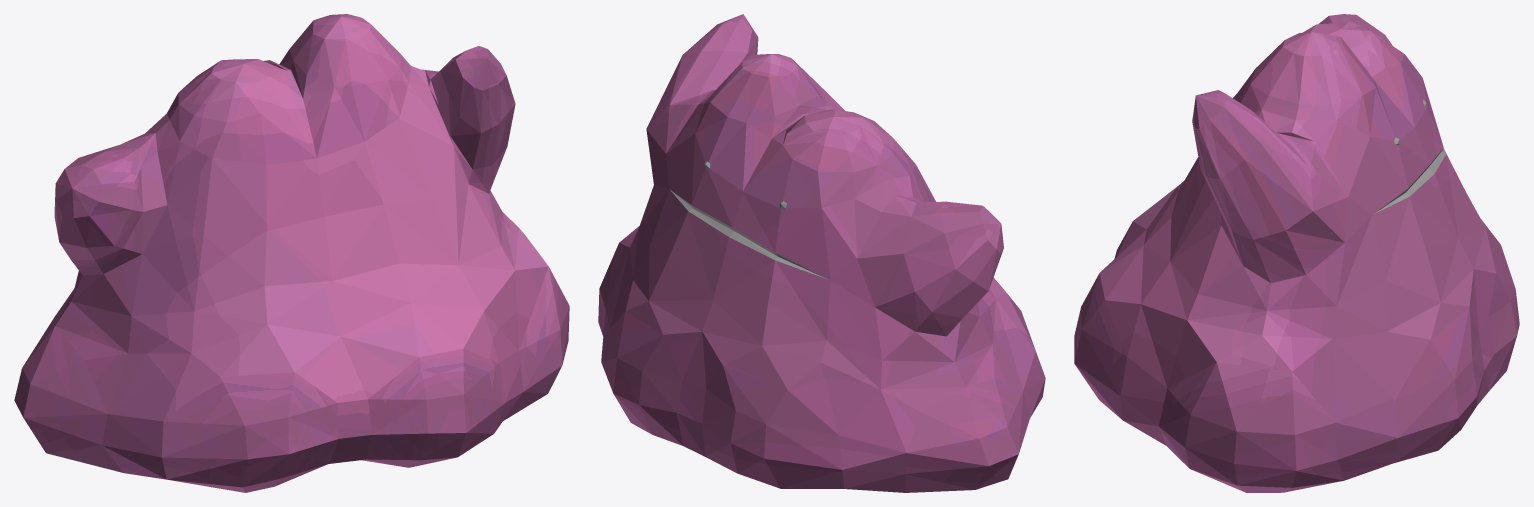
The model's file is ditto.FBX.
3 renders of one model, left to right at view 1: azimuth 30°, elevation 25°; view 2: azimuth 150°, elevation 25°; view 3: azimuth 270°, elevation 25°, orthographic. The views are drawn at different scales.
Visible parts, largest first — view 1: Nemu_214B5, Nemu_214B0, Nemu_21410, Nemu_214B1, Nemu_214B9, Nemu_21414, Nemu_214B8, Nemu_214B6, Nemu_214B2, Nemu_214B3, Nemu_21413, Nemu_214B7 (+1 smaller); view 2: Nemu_214B5, Nemu_214B0, Nemu_21412, Nemu_214B1, Nemu_21414, Nemu_214B8, Nemu_21411, Nemu_214B7, Nemu_214B3, Nemu_214B2, Nemu_214B6, Nemu_214B4 (+2 smaller); view 3: Nemu_214B5, Nemu_214B0, Nemu_21413, Nemu_214B6, Nemu_21411, Nemu_214B4, Nemu_214B1, Nemu_214B2, Nemu_214B9, Nemu_21412, Nemu_214B3, Nemu_0_0_0 (+1 smaller).
Boxes of the visible parts, box(x1,y1,x2,y2) form: Nemu_214B5: box(55, 212, 548, 479); Nemu_214B0: box(71, 66, 502, 316); Nemu_21410: box(161, 372, 339, 492); Nemu_214B1: box(167, 50, 410, 164); Nemu_214B9: box(362, 348, 505, 467); Nemu_21414: box(14, 317, 123, 472); Nemu_214B8: box(54, 144, 143, 260); Nemu_214B6: box(430, 46, 515, 169); Nemu_214B2: box(289, 14, 401, 86); Nemu_214B3: box(178, 59, 287, 122); Nemu_21413: box(503, 267, 569, 420); Nemu_214B7: box(71, 133, 167, 275); Nemu_214B5: box(601, 226, 1045, 492); Nemu_214B0: box(639, 89, 979, 362); Nemu_21412: box(702, 366, 844, 488); Nemu_214B1: box(695, 86, 915, 208); Nemu_21414: box(905, 378, 1029, 492); Nemu_214B8: box(903, 201, 1003, 318); Nemu_21411: box(601, 311, 683, 445); Nemu_214B7: box(857, 195, 962, 336); Nemu_214B3: box(783, 109, 893, 172); Nemu_214B2: box(710, 54, 820, 122); Nemu_214B6: box(646, 14, 758, 128); Nemu_214B4: box(646, 89, 716, 183); Nemu_214B5: box(1099, 180, 1500, 480); Nemu_214B0: box(1170, 79, 1465, 310); Nemu_21413: box(1158, 362, 1344, 492); Nemu_214B6: box(1192, 90, 1312, 239); Nemu_21411: box(1393, 307, 1484, 463); Nemu_214B4: box(1221, 132, 1348, 283); Nemu_214B1: box(1233, 54, 1426, 140); Nemu_214B2: box(1250, 32, 1375, 104); Nemu_214B9: box(1074, 273, 1127, 419); Nemu_21412: box(1488, 245, 1519, 390); Nemu_214B3: box(1303, 21, 1404, 67); Nemu_0_0_0: box(1373, 148, 1446, 214).
Size of the model in its own units: 0.000256 by 0.0002 by 0.000203.
18 materials, 15 textured.
